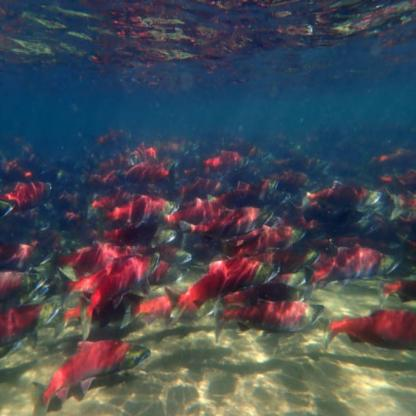sockeye: (40, 334, 155, 401), (65, 248, 164, 323), (172, 253, 276, 305), (217, 292, 317, 336), (315, 179, 397, 223), (98, 143, 173, 188), (8, 292, 57, 360), (331, 308, 416, 343), (265, 151, 321, 198), (183, 192, 258, 226), (223, 222, 302, 252), (108, 195, 178, 228), (8, 172, 57, 214), (202, 149, 251, 165)
sockeye-group: (0, 132, 411, 360)
